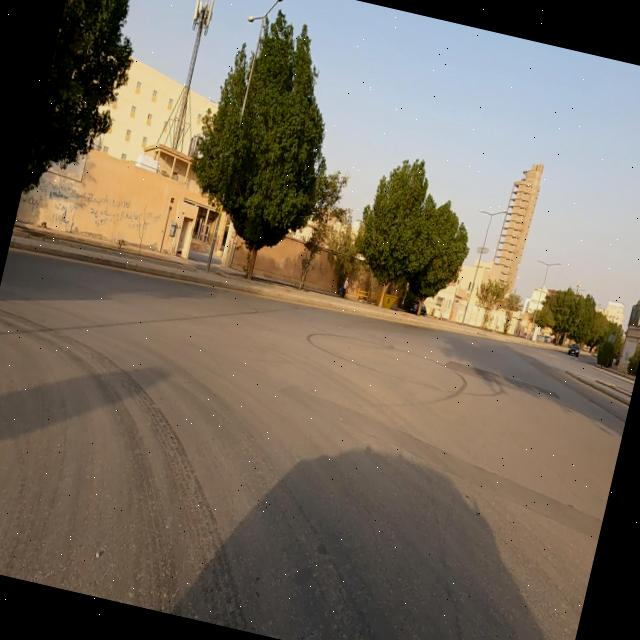Graffiti: (33, 177, 143, 240), (22, 193, 42, 213)
